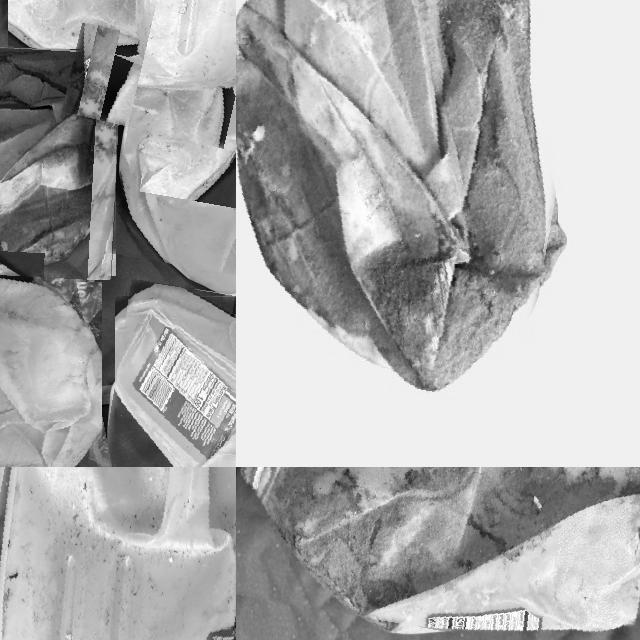milk-jug: (236, 0, 580, 400), (236, 467, 640, 640), (0, 467, 236, 640), (114, 50, 236, 284), (0, 45, 120, 278), (70, 0, 236, 152), (108, 288, 236, 467), (0, 267, 110, 467)
